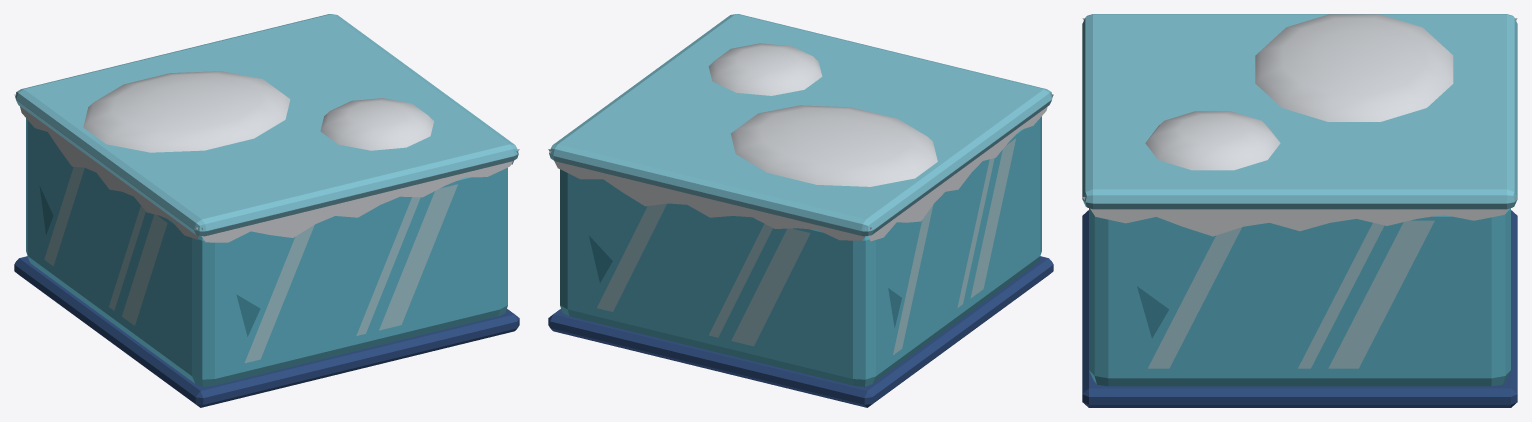
File: ice-block.glb
3 views of the same model, side by side, from view 1: azimuth 30°, elevation 25°; view 2: azimuth 150°, elevation 25°; view 3: azimuth 270°, elevation 25° (orthographic). The views are drawn at different scales.
Visible parts, largest first — view 1: ice-block; view 2: ice-block; view 3: ice-block.
Boxes of the visible parts, x1,y1,x2,y2 form: ice-block: (14,14,519,407); ice-block: (548,14,1053,407); ice-block: (1082,14,1517,407).
Bounding box in the file's own units: 2 × 1.2 × 2.
